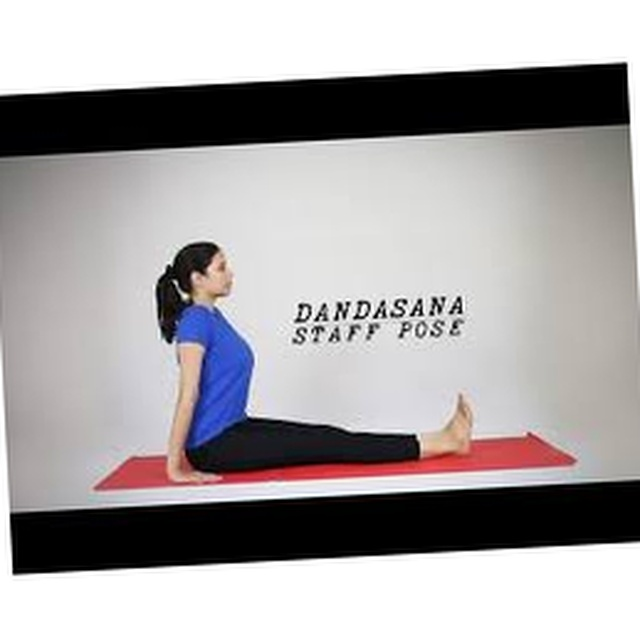Staff_Pose: (155, 240, 474, 483)
